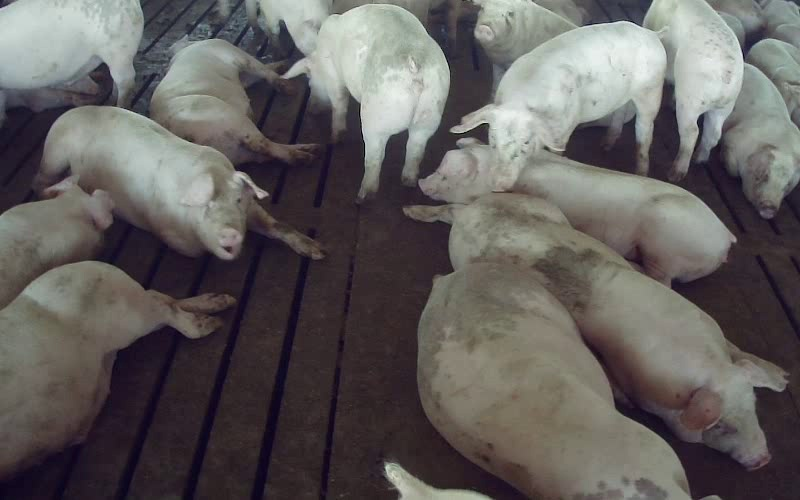pig: (449, 194, 786, 468), (418, 263, 689, 499), (0, 261, 233, 478), (34, 107, 324, 259), (451, 21, 665, 190), (283, 4, 449, 201), (0, 176, 113, 308), (721, 64, 799, 218)
